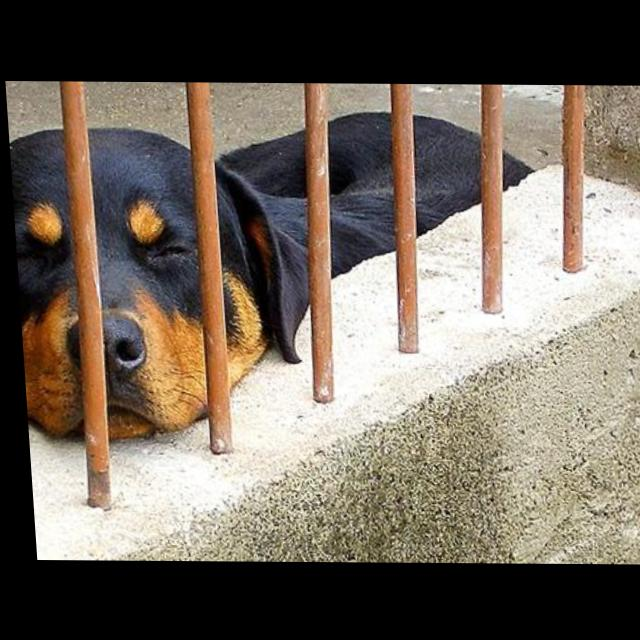rottweiler: (7, 108, 550, 446)
